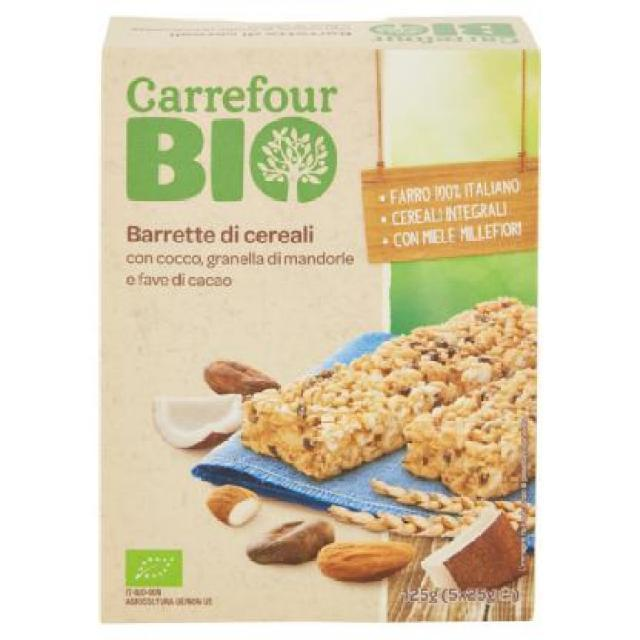Cereal bar: (92, 13, 536, 627)
